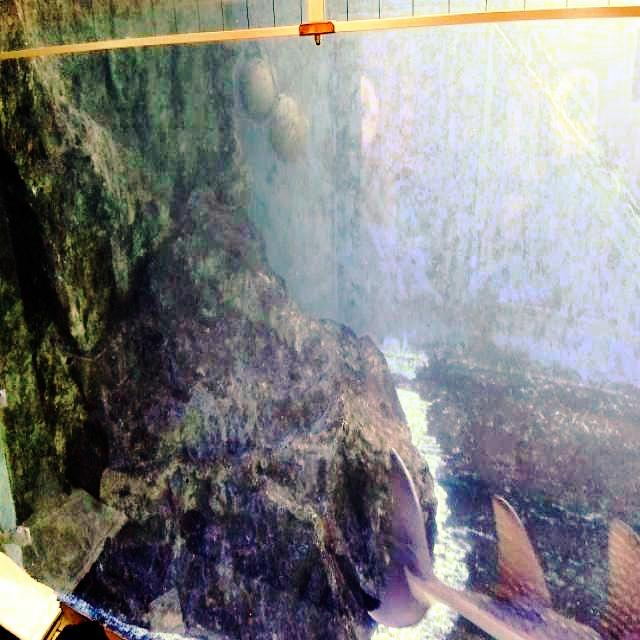Mud skate: (364, 422, 639, 640)
